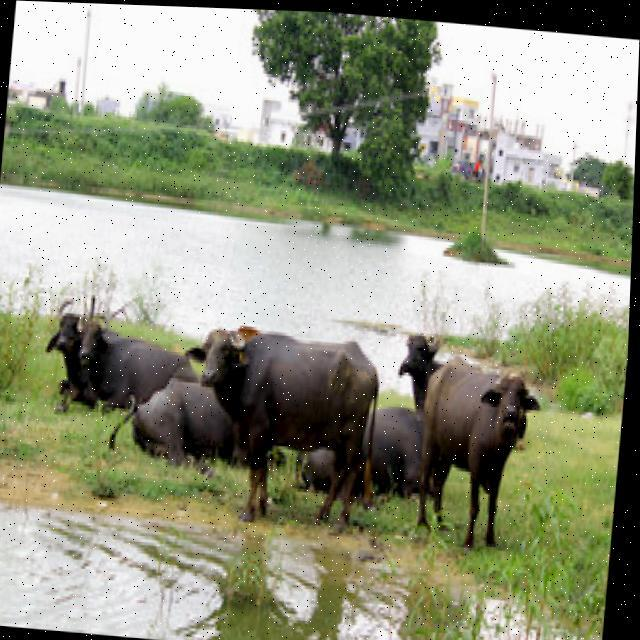Buffalo: (172, 316, 392, 536)
